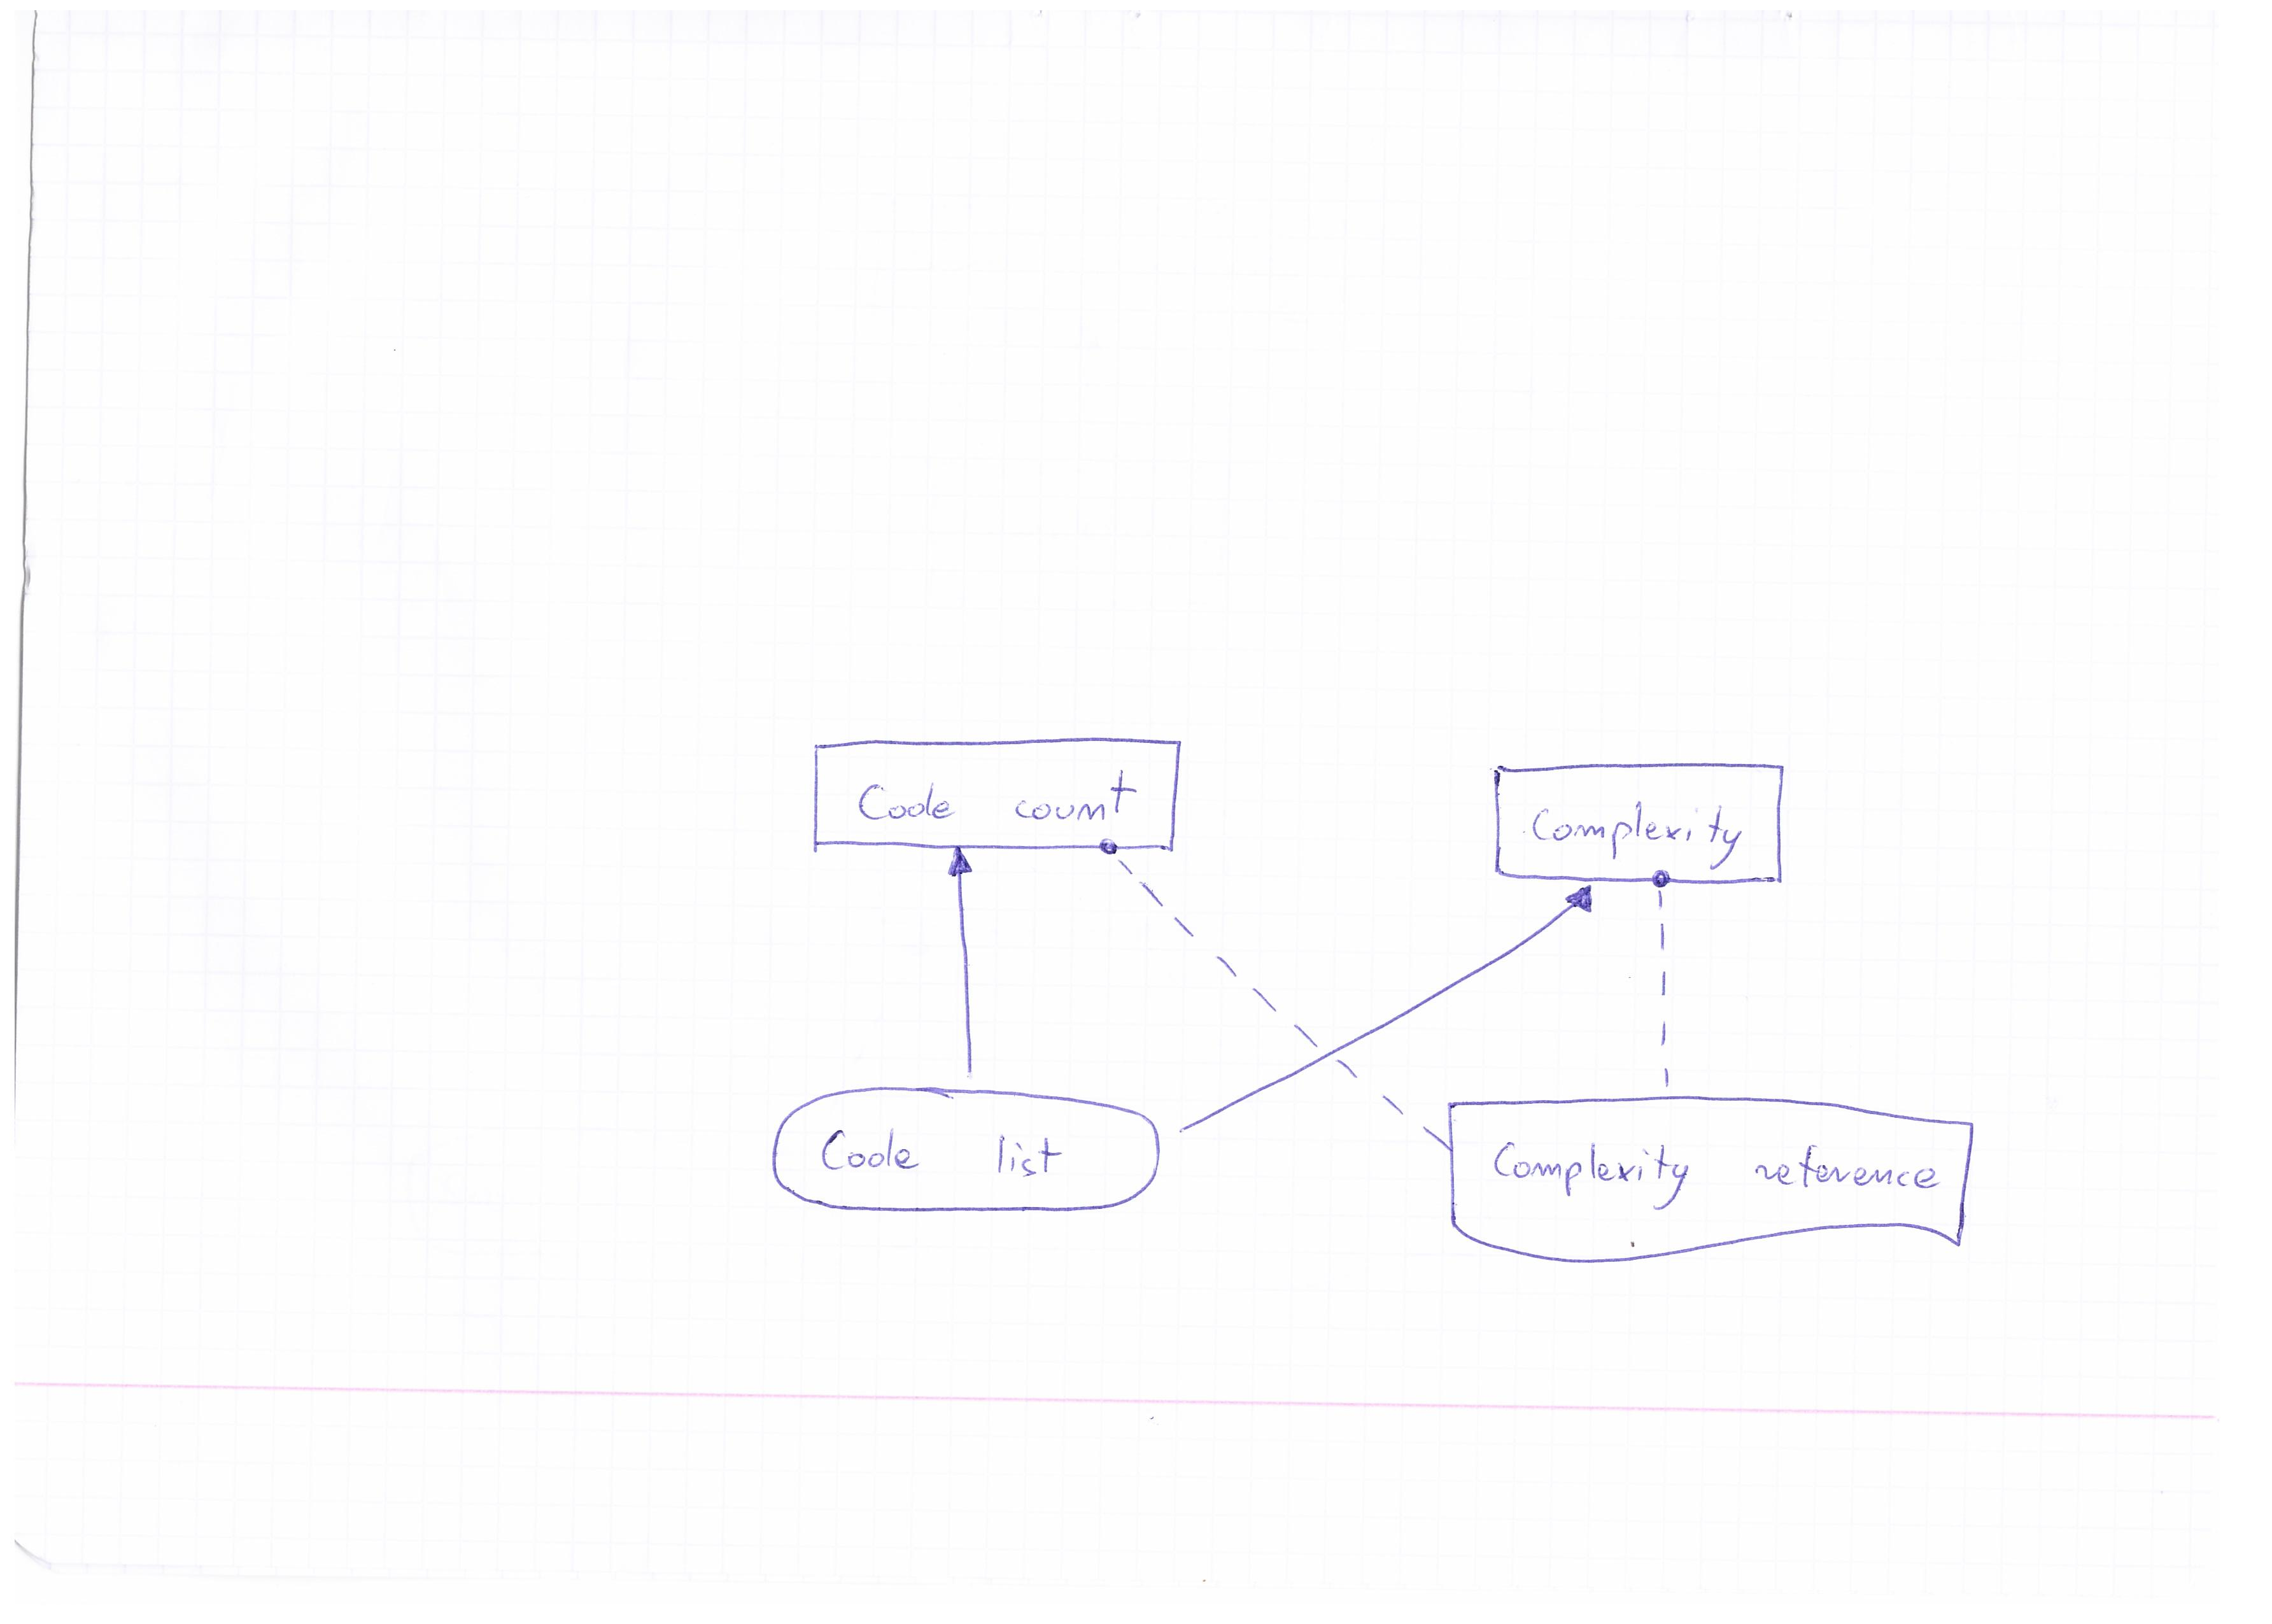arrow_authority_requirement: (1091, 838, 1462, 1155), (1641, 866, 1687, 1097)
arrow_information_requirement: (1172, 884, 1595, 1139), (926, 842, 996, 1086)
node_decision: (798, 733, 1186, 859), (1474, 752, 1792, 889)
node_input_data: (763, 1079, 1170, 1222)
node_knowledge_source: (1432, 1095, 1991, 1274)
text: (1472, 1125, 1947, 1218), (803, 1116, 1095, 1190), (1520, 789, 1754, 872), (842, 770, 1142, 833)
